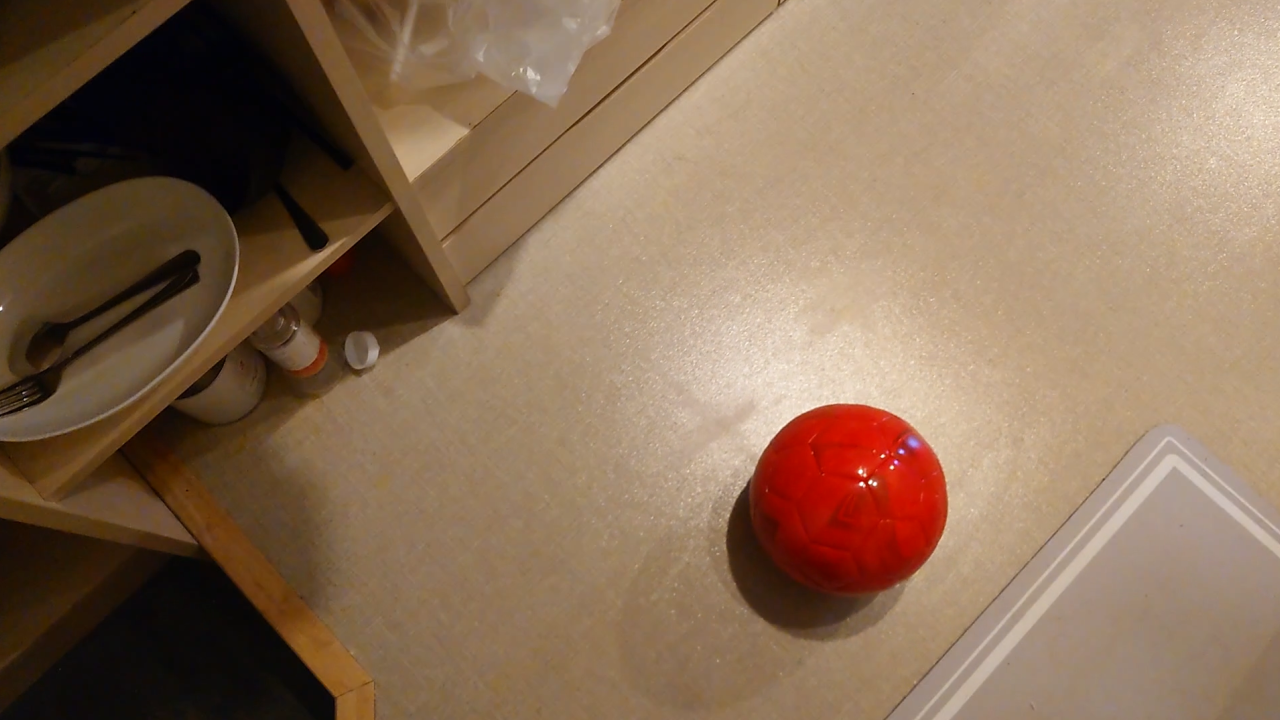red: (752, 400, 949, 598)
